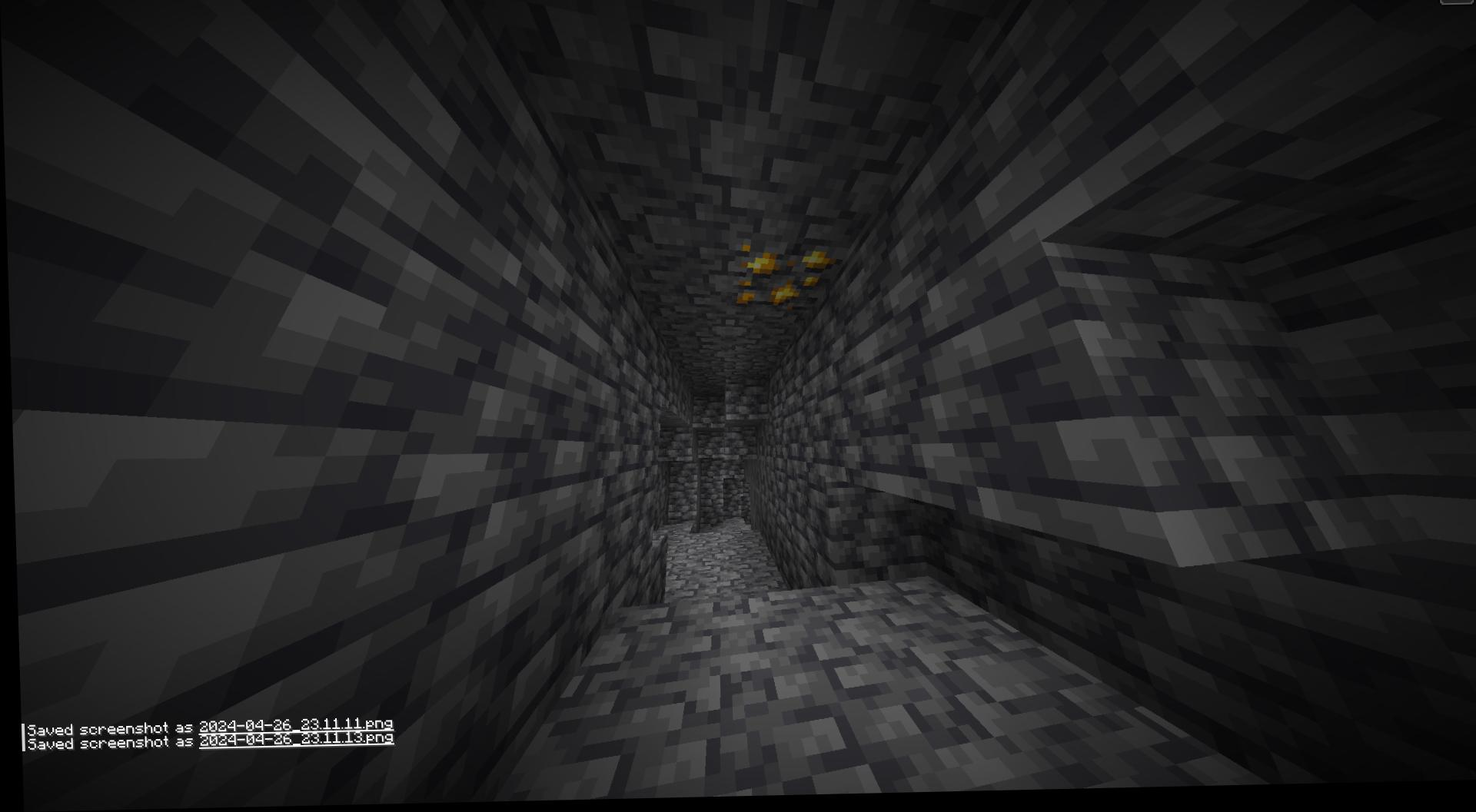gold ore: (730, 241, 832, 318)
